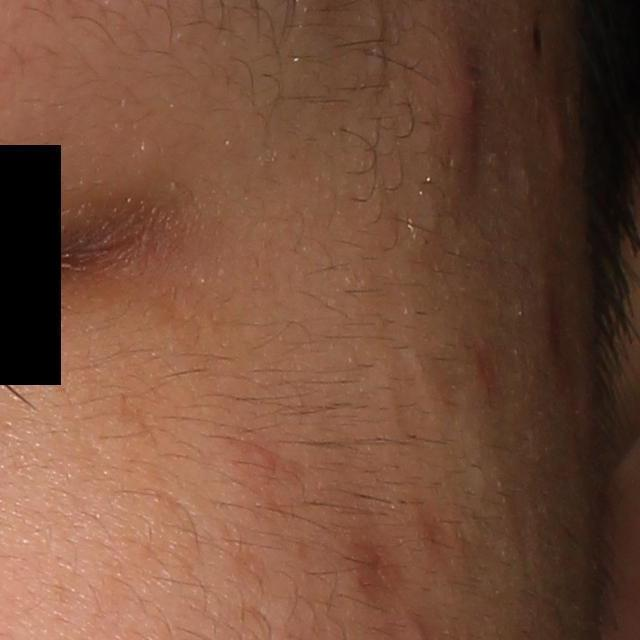comedo: (366, 7, 388, 42)
